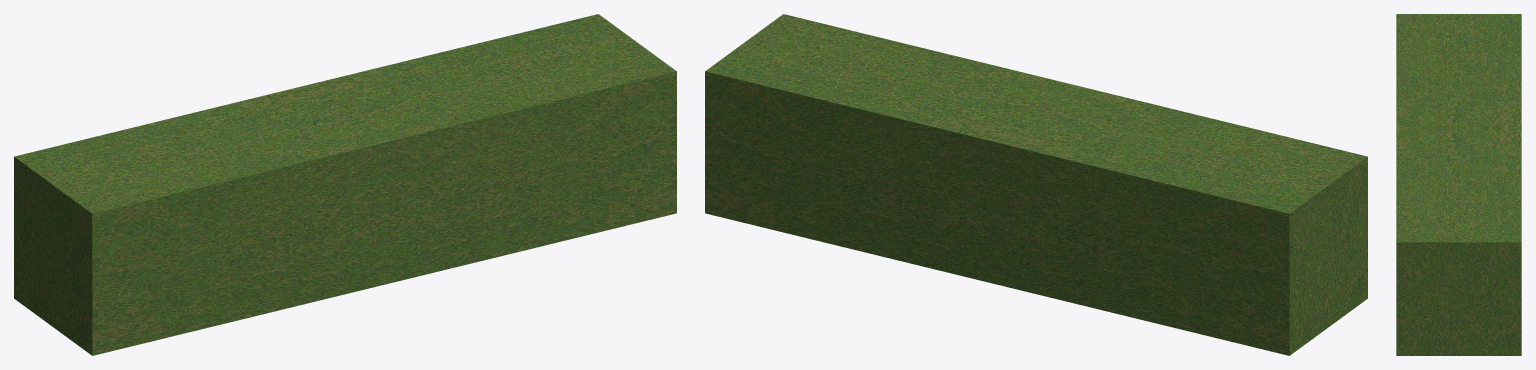
Rendered from grass patch.fbx.
The picture shows the model from 3 angles, left to right: view 1: azimuth 30°, elevation 25°; view 2: azimuth 150°, elevation 25°; view 3: azimuth 270°, elevation 25°; orthographic projection. The views are drawn at different scales.
Parts seen in each view (by area): view 1: Cube; view 2: Cube; view 3: Cube.
Part boxes in pixels (box(x1,y1,x2,y2)): Cube: box(14, 14, 676, 355); Cube: box(705, 14, 1367, 355); Cube: box(1396, 14, 1521, 355).
Size of the model in its own units: 861 by 200 by 200.
1 material, 1 textured.
